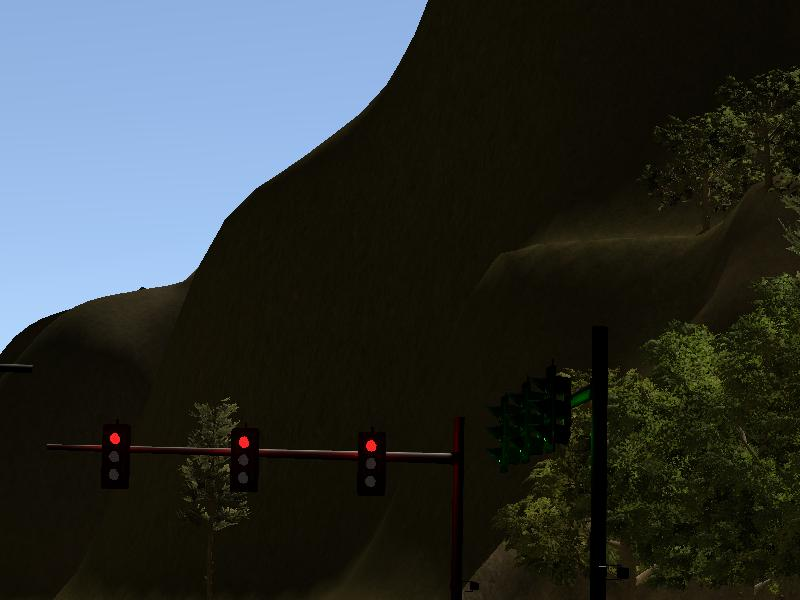Red: (104, 426, 131, 486), (232, 428, 256, 494), (356, 435, 381, 495)
